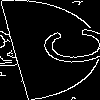C: (25, 25, 100, 69)
